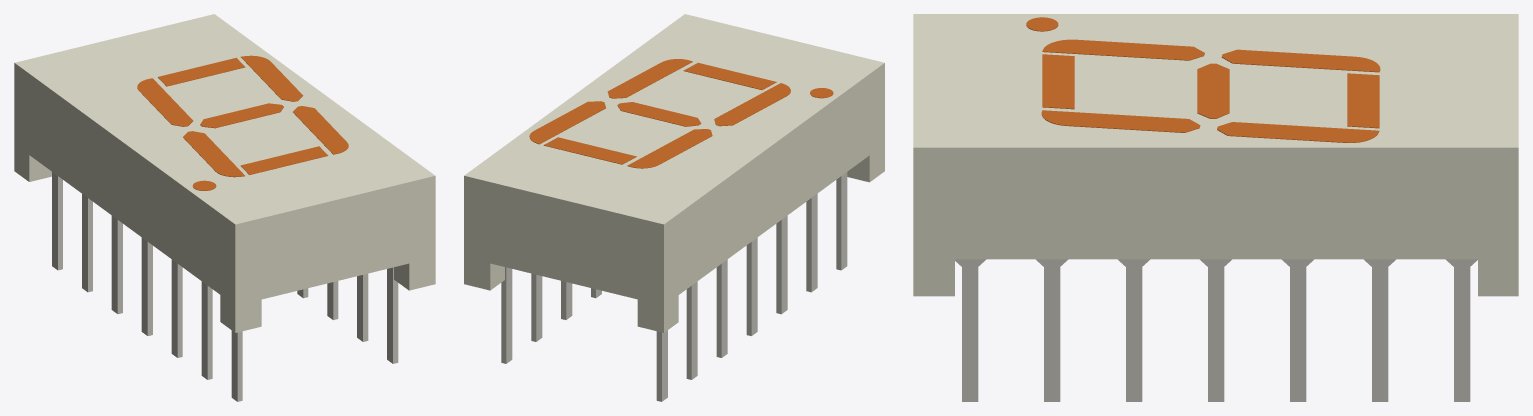
The model's file is kc-man3620a.glb.
3 renders of one model, left to right at view 1: azimuth 30°, elevation 25°; view 2: azimuth 150°, elevation 25°; view 3: azimuth 270°, elevation 25°, orthographic. The views are drawn at different scales.
Visible parts, largest first — view 1: 0.75_0.75_0.6666666666666666_0, 0.6666666666666666_0.6666666666666666_0.5833333333333334_0.8, 0.5833333333333334_0.16666666666666666_0_0; view 2: 0.75_0.75_0.6666666666666666_0, 0.6666666666666666_0.6666666666666666_0.5833333333333334_0.8, 0.5833333333333334_0.16666666666666666_0_0; view 3: 0.75_0.75_0.6666666666666666_0, 0.6666666666666666_0.6666666666666666_0.5833333333333334_0.8, 0.5833333333333334_0.16666666666666666_0_0.
Part boxes in pixels (<box>): 0.75_0.75_0.6666666666666666_0: <box>14,14,435,332</box>; 0.6666666666666666_0.6666666666666666_0.5833333333333334_0.8: <box>52,172,398,401</box>; 0.5833333333333334_0.16666666666666666_0_0: <box>137,55,348,190</box>; 0.75_0.75_0.6666666666666666_0: <box>464,14,884,332</box>; 0.6666666666666666_0.6666666666666666_0.5833333333333334_0.8: <box>501,172,847,401</box>; 0.5833333333333334_0.16666666666666666_0_0: <box>529,59,833,168</box>; 0.75_0.75_0.6666666666666666_0: <box>913,14,1518,296</box>; 0.6666666666666666_0.6666666666666666_0.5833333333333334_0.8: <box>955,259,1477,401</box>; 0.5833333333333334_0.16666666666666666_0_0: <box>1026,17,1380,142</box>.
Size of the model in its own units: 0.98 by 0.916 by 1.88.
